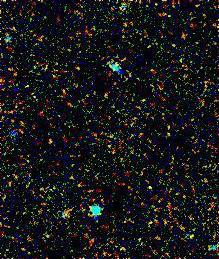star: (142, 177, 172, 207)
